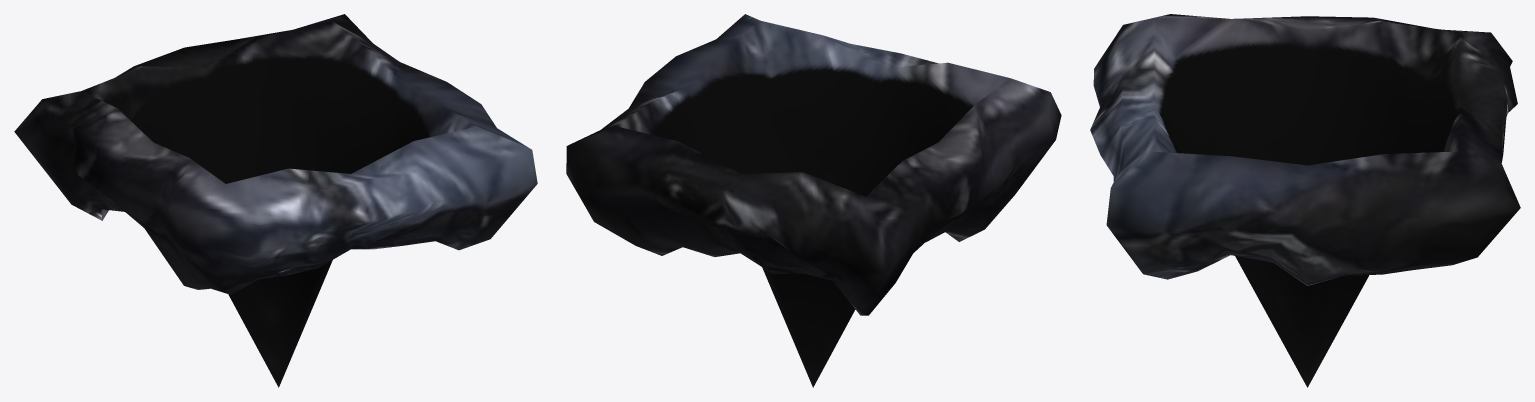
The model's file is Trash_Bag.glb.
3 views of the same model, side by side, from view 1: azimuth 30°, elevation 25°; view 2: azimuth 150°, elevation 25°; view 3: azimuth 270°, elevation 25° (orthographic). The views are drawn at different scales.
Visible parts, largest first — view 1: Trash_Bag.001; view 2: Trash_Bag.001; view 3: Trash_Bag.001.
Part boxes in pixels (<box>): Trash_Bag.001: <box>14,14,537,387</box>; Trash_Bag.001: <box>566,14,1061,387</box>; Trash_Bag.001: <box>1090,14,1520,387</box>.
Size of the model in its own units: 0.6408 by 0.5041 by 0.6452.
Materials: 1 (1 with a texture image).
